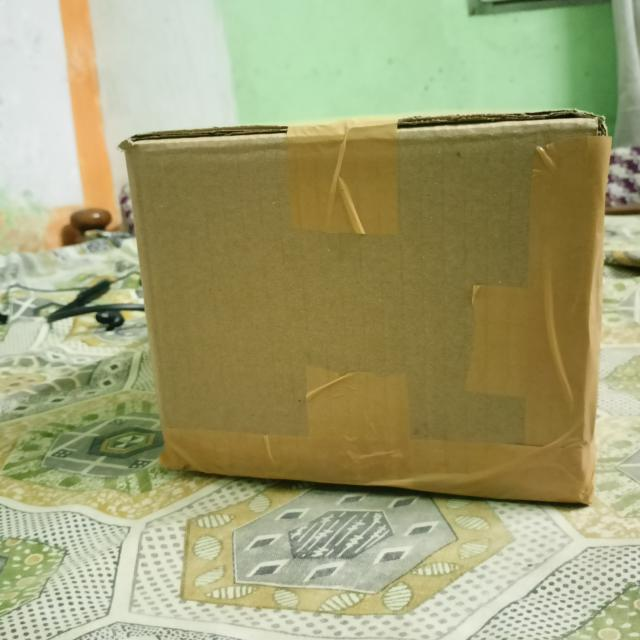box: (129, 129, 600, 514)
